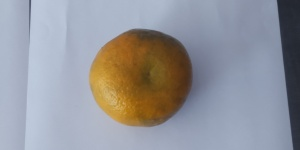BAD: (88, 28, 193, 130)
